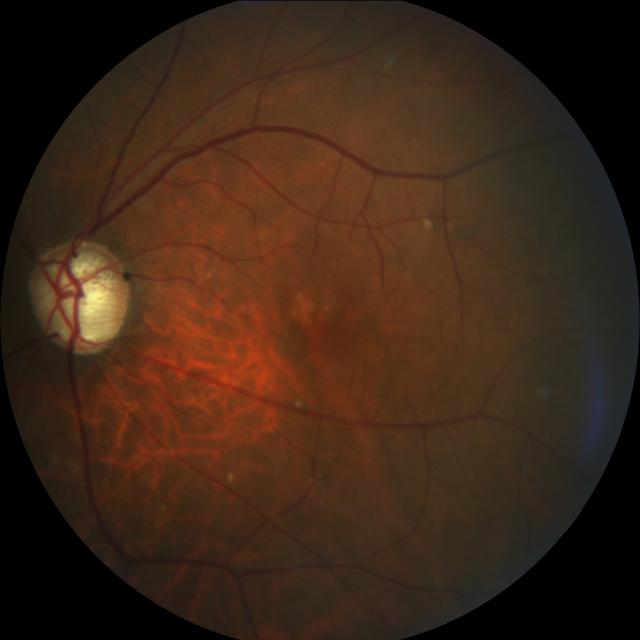OC: (35, 248, 123, 347)
OD: (29, 237, 131, 353)
